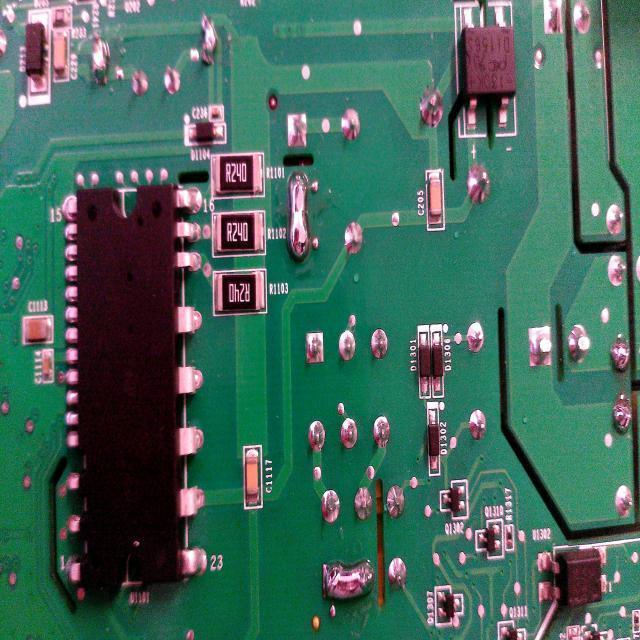Soldering shorted: (321, 551, 378, 608), (285, 169, 316, 266), (86, 31, 114, 98), (197, 11, 221, 76)
